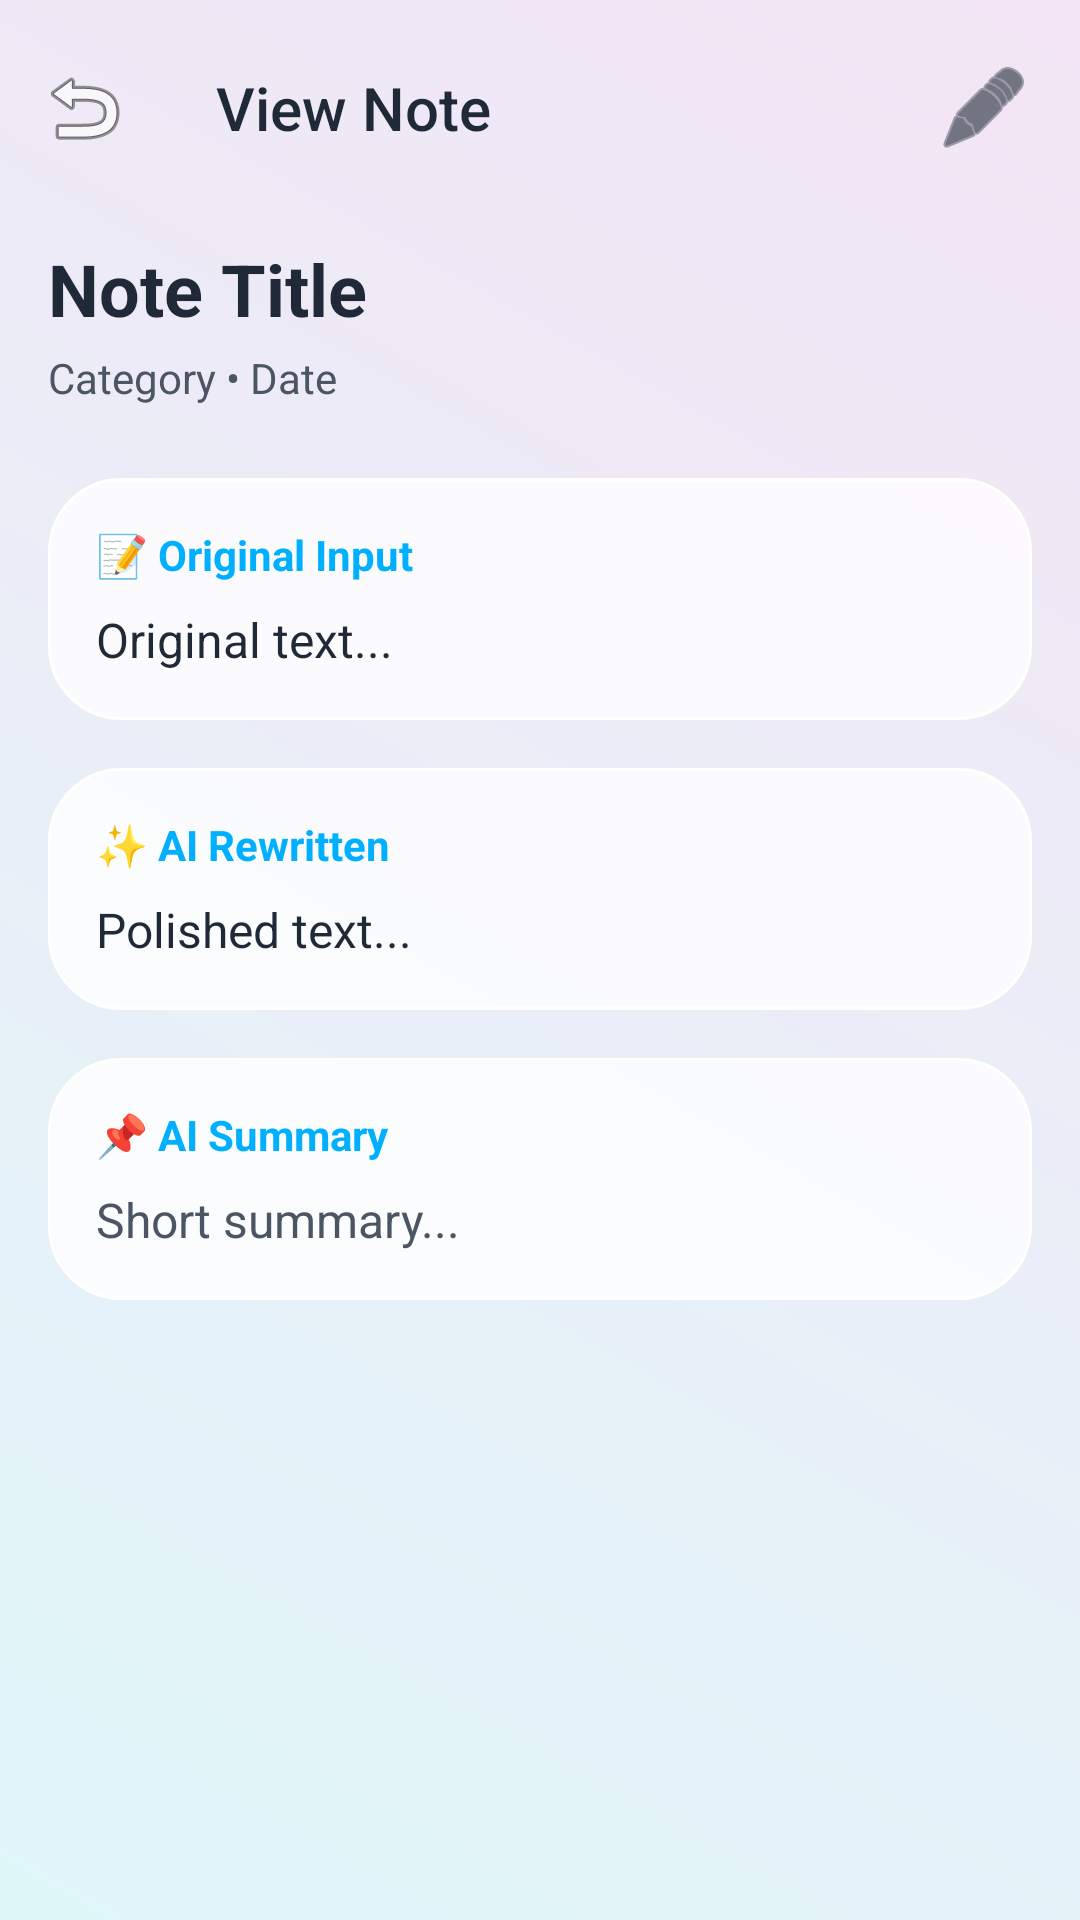

Icon bounding boxes for this 1080×1920 phone screenshot, format (x1, y1, x2, y2):
edit: (943, 67, 1024, 148)
